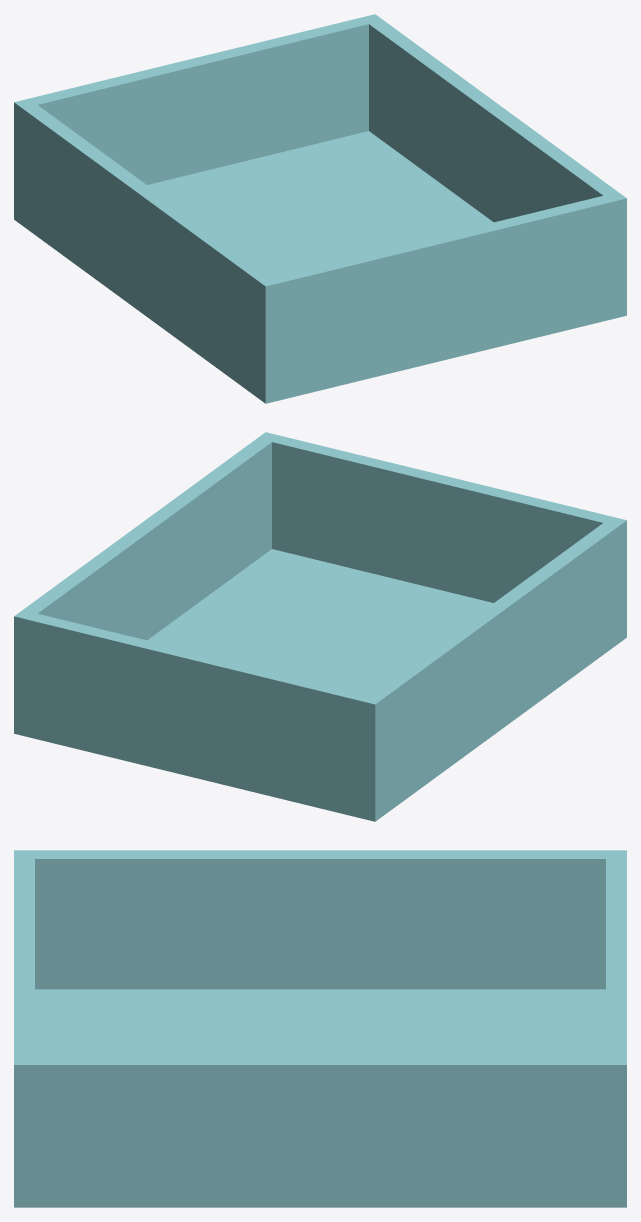
The model's file is left_basket.dae.
3 renders of one model, top to bottom at view 1: azimuth 30°, elevation 25°; view 2: azimuth 150°, elevation 25°; view 3: azimuth 270°, elevation 25°, orthographic. The views are drawn at different scales.
Parts seen in each view (by area): view 1: left_basket; view 2: left_basket; view 3: left_basket.
Part boxes in pixels (bbox=[...]): left_basket: bbox=[14, 14, 626, 403]; left_basket: bbox=[14, 432, 626, 821]; left_basket: bbox=[14, 850, 626, 1207].
Size of the model in its own units: 0.29 by 0.35 by 0.09.
